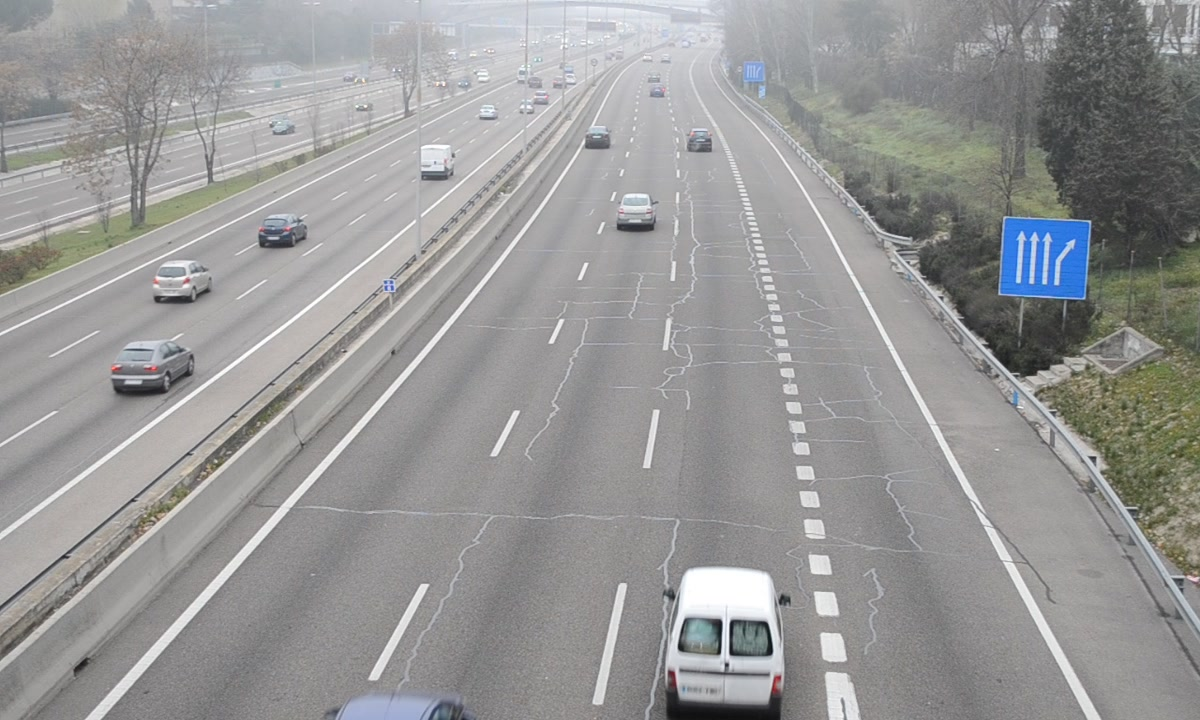car: (617, 192, 654, 227), (686, 127, 714, 154), (585, 126, 612, 151)
van: (664, 567, 787, 720)
